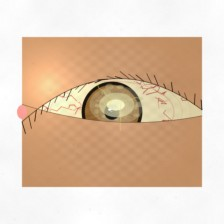corneal_ulcer: (88, 82, 145, 128)
